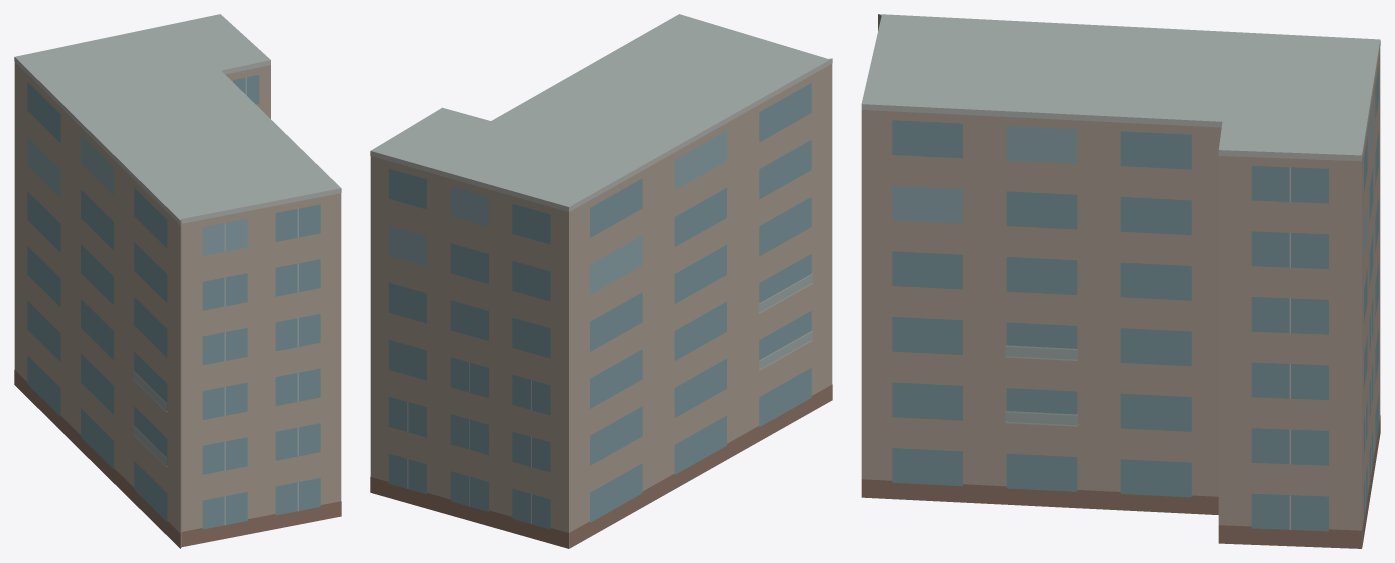
Rendered from survey-upis-32986249.glb.
3 renders of one model, left to right at view 1: azimuth 30°, elevation 25°; view 2: azimuth 150°, elevation 25°; view 3: azimuth 270°, elevation 25°, orthographic. The views are drawn at different scales.
Visible parts, largest first — view 1: survey-upis-32986249.tmp; view 2: survey-upis-32986249.tmp; view 3: survey-upis-32986249.tmp.
Part boxes in pixels (x1=…): survey-upis-32986249.tmp: x1=14, y1=14, x2=341, y2=548; survey-upis-32986249.tmp: x1=370, y1=14, x2=832, y2=548; survey-upis-32986249.tmp: x1=861, y1=14, x2=1380, y2=548.
Size of the model in its own units: 12.81 by 16.6 by 19.85.
